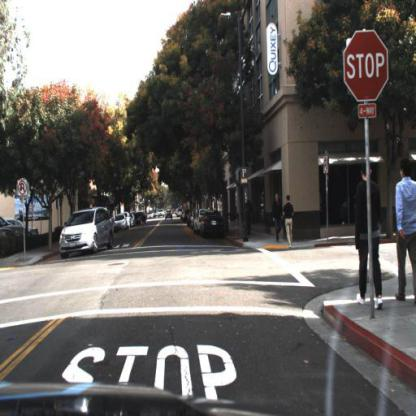car: (59, 204, 115, 264), (57, 207, 117, 261), (203, 212, 229, 238), (116, 213, 129, 234), (195, 209, 203, 236)
pedestrian: (355, 157, 383, 315), (396, 158, 416, 307), (280, 194, 297, 251), (272, 193, 284, 245), (245, 197, 253, 237), (245, 199, 254, 234)
